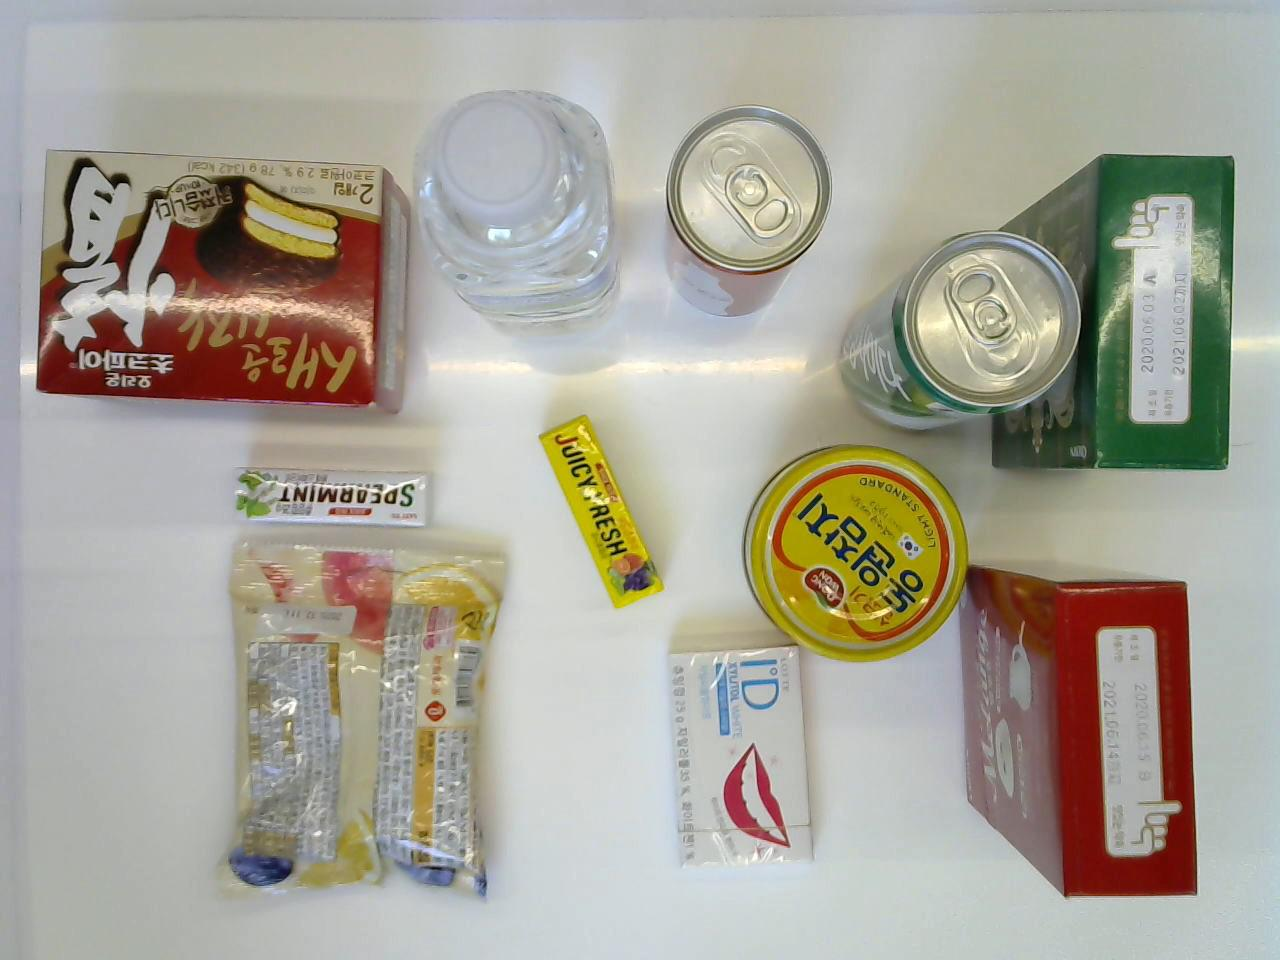ID_gum: (658, 626, 819, 873)
chocopie: (37, 146, 417, 407)
cidar: (840, 225, 1079, 438)
coke: (656, 104, 829, 326)
couque_coffee: (986, 148, 1243, 480)
couque_white: (955, 545, 1206, 905)
gumi_gumi: (217, 535, 512, 909)
juicyfresh: (534, 408, 671, 607)
samdasu: (411, 82, 631, 332)
spearmint: (231, 455, 437, 530)
tuna: (734, 441, 968, 662)
